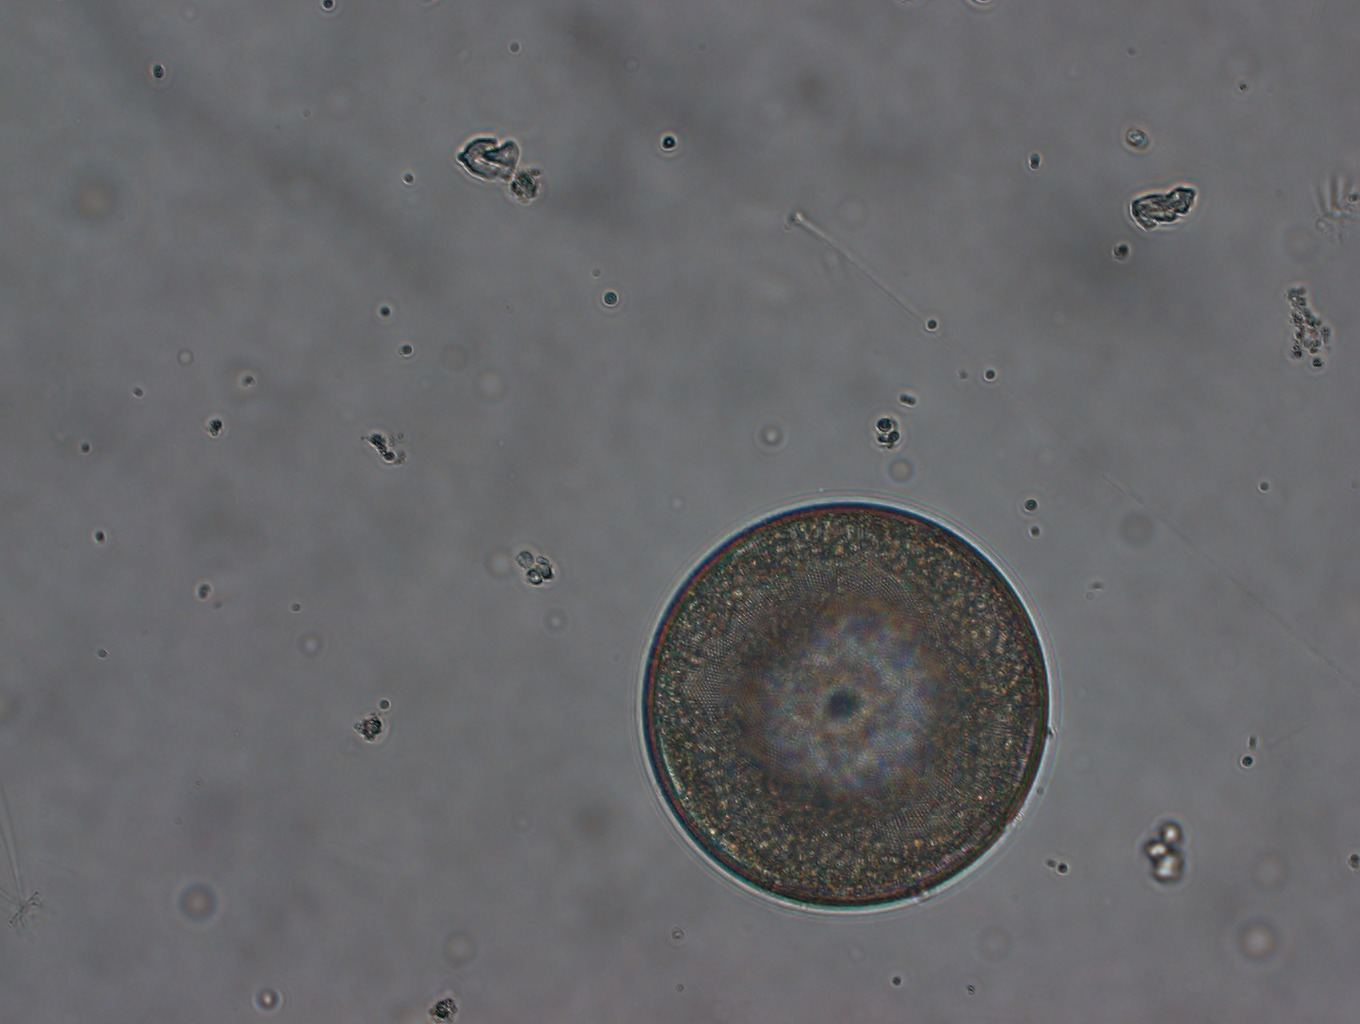coscinodiscus: (631, 490, 1059, 919)
